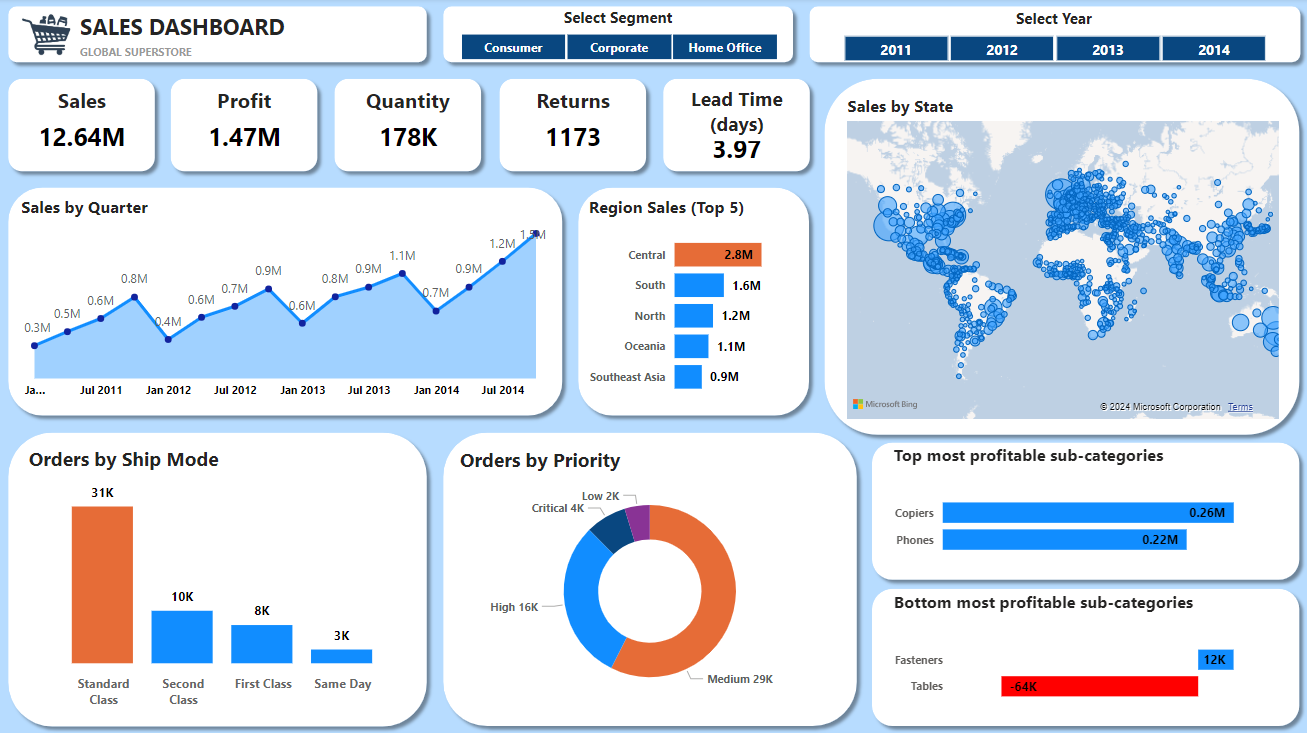

This screenshot's page, from the dashboard's own definition file:
{"tool":"powerbi","page":{"name":"Page 1","canvas":[1280,720],"ordinal":0},"visuals":[{"type":"shape","box":[0,0,425.4,70.7],"z":0},{"type":"shape","box":[425.4,0,358.2,70.7],"z":1000},{"type":"shape","box":[783.6,0,496.1,70.7],"z":2000},{"type":"shape","box":[0,70.7,159.4,106.6],"z":3000},{"type":"shape","box":[159.4,70.7,159.4,106.6],"z":4000},{"type":"shape","box":[318.8,70.7,159.4,106.6],"z":5000},{"type":"shape","box":[480.9,70.7,159.4,106.6],"z":6000},{"type":"shape","box":[640.3,70.7,159.4,106.6],"z":7000},{"type":"shape","box":[0,177.3,557.9,239.1],"z":8000},{"type":"shape","box":[557.9,177.3,241.8,239.1],"z":9000},{"type":"shape","box":[798.2,70.9,480.4,364.3],"z":10000},{"type":"shape","box":[0,416.4,425.4,303.6],"z":11000},{"type":"shape","box":[425.4,416.8,420.5,303.2],"z":12000},{"type":"shape","box":[844.7,426.6,434,150.4],"z":13000},{"type":"textbox","box":[73.3,8.6,352.1,62.3],"z":14000},{"type":"slicer","title":"Select Segment","fields":{"Values":["Orders.Segment"]},"box":[425.4,9,358.2,53.7],"z":15000},{"type":"slicer","title":"Select Year","fields":{"Values":["Orders.Year"]},"box":[799.9,9.8,462.4,51.2],"z":16000},{"type":"map","title":"Sales by State","fields":{"Size":["Sum(Orders.Sales)"],"Category":["Orders.State"]},"box":[823.9,94.1,431.5,322.7],"z":17000},{"type":"clusteredBarChart","title":"Region Sales (Top 5)","fields":{"Category":["Orders.Region"],"Y":["Sum(Orders.Sales)"]},"box":[571.3,193.4,212.2,206.9],"z":18000},{"type":"areaChart","title":"Sales by Quarter","fields":{"Category":["Orders.Order Date.Variation.Date Hierarchy.Year","Orders.Order Date.Variation.Date Hierarchy.Quarter","Orders.Order Date.Variation.Date Hierarchy.Month"],"Y":["Sum(Orders.Sales)"]},"box":[16.1,193.4,526.6,206.9],"z":19000},{"type":"card","title":"Sales","fields":{"Values":["Sum(Orders.Sales)"]},"box":[14.3,86,130.7,77],"z":20000},{"type":"card","title":"Profit","fields":{"Values":["Sum(Orders.Profit)"]},"box":[173.7,86,130.7,77],"z":21000},{"type":"card","title":"Quantity","fields":{"Values":["Sum(Orders.Quantity)"]},"box":[333.1,86,130.7,77],"z":22000},{"type":"card","title":"Returns","fields":{"Values":["Sum(Returns.ReturnedYes)"]},"box":[495.2,86,130.7,77],"z":23000},{"type":"card","title":"Lead Time (days)","fields":{"Values":["Avg(Orders.Lead Time)"]},"box":[654.6,86,130.7,77],"z":24000},{"type":"columnChart","title":"Orders by Ship Mode","fields":{"Category":["Orders.Ship Mode"],"Y":["Orders.Count"]},"box":[23.3,437,379.7,264.2],"z":25000},{"type":"donutChart","title":"Orders by Priority","fields":{"Category":["Orders.Order Priority"],"Y":["Orders.Count"]},"box":[445,438.8,381.4,257.9],"z":26000},{"type":"clusteredBarChart","title":"Top most profitable sub-categories","fields":{"Category":["Orders.Sub-Category"],"Y":["Sum(Orders.Profit)"]},"box":[869.1,435.2,386.3,134.5],"z":27000},{"type":"shape","box":[844.7,569.6,434,150.4],"z":28000},{"type":"clusteredBarChart","title":"Bottom most profitable sub-categories","fields":{"Category":["Orders.Sub-Category"],"Y":["Sum(Orders.Profit)"]},"box":[869.1,579.4,386.3,133.2],"z":29000},{"type":"image","box":[14.3,4.5,59.1,62.7],"z":30000}]}

Visuals, with their boxes in screenshot pixels (x1, y1, x2, y2), scaled from the page's 1280x720 canvas onto the 1307x733 screenshot:
shape: bbox=(0, 0, 434, 72)
shape: bbox=(434, 0, 800, 72)
shape: bbox=(800, 0, 1306, 72)
shape: bbox=(0, 72, 163, 181)
shape: bbox=(163, 72, 326, 181)
shape: bbox=(326, 72, 488, 181)
shape: bbox=(491, 72, 654, 181)
shape: bbox=(654, 72, 817, 181)
shape: bbox=(0, 181, 570, 424)
shape: bbox=(570, 181, 817, 424)
shape: bbox=(815, 72, 1306, 443)
shape: bbox=(0, 424, 434, 732)
shape: bbox=(434, 424, 864, 732)
shape: bbox=(863, 434, 1306, 587)
textbox: bbox=(75, 9, 434, 72)
"Select Segment" slicer: bbox=(434, 9, 800, 64)
"Select Year" slicer: bbox=(817, 10, 1289, 62)
"Sales by State" map: bbox=(841, 96, 1282, 424)
"Region Sales (Top 5)" clusteredBarChart: bbox=(583, 197, 800, 408)
"Sales by Quarter" areaChart: bbox=(16, 197, 554, 408)
"Sales" card: bbox=(15, 88, 148, 166)
"Profit" card: bbox=(177, 88, 311, 166)
"Quantity" card: bbox=(340, 88, 474, 166)
"Returns" card: bbox=(506, 88, 639, 166)
"Lead Time (days)" card: bbox=(668, 88, 802, 166)
"Orders by Ship Mode" columnChart: bbox=(24, 445, 412, 714)
"Orders by Priority" donutChart: bbox=(454, 447, 844, 709)
"Top most profitable sub-categories" clusteredBarChart: bbox=(887, 443, 1282, 580)
shape: bbox=(863, 580, 1306, 732)
"Bottom most profitable sub-categories" clusteredBarChart: bbox=(887, 590, 1282, 725)
image: bbox=(15, 5, 75, 68)
